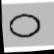no answer: (6, 9, 44, 42)
